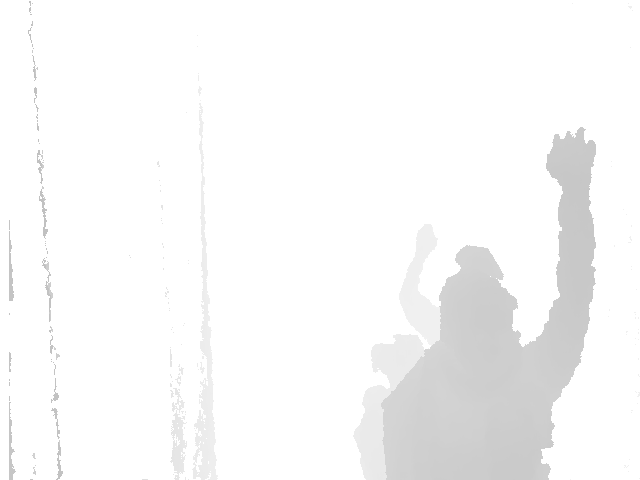hand: (545, 127, 597, 187), (414, 224, 442, 260)
head: (439, 245, 519, 374)
person: (378, 127, 597, 480), (355, 224, 440, 480)
